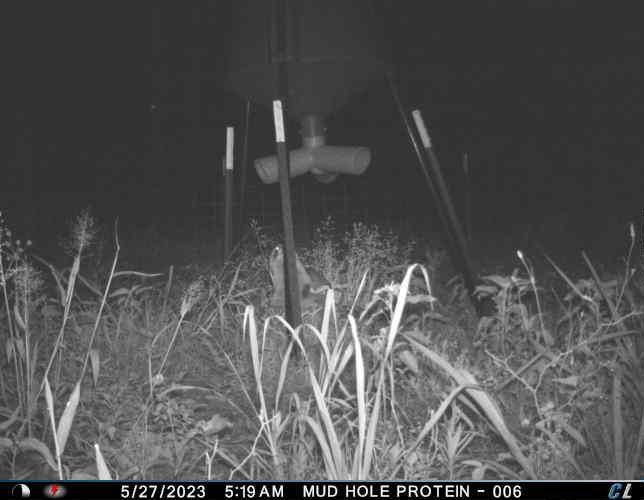Raccoon: (265, 238, 319, 309)
